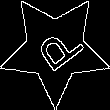P_SW: (25, 19, 85, 79)
